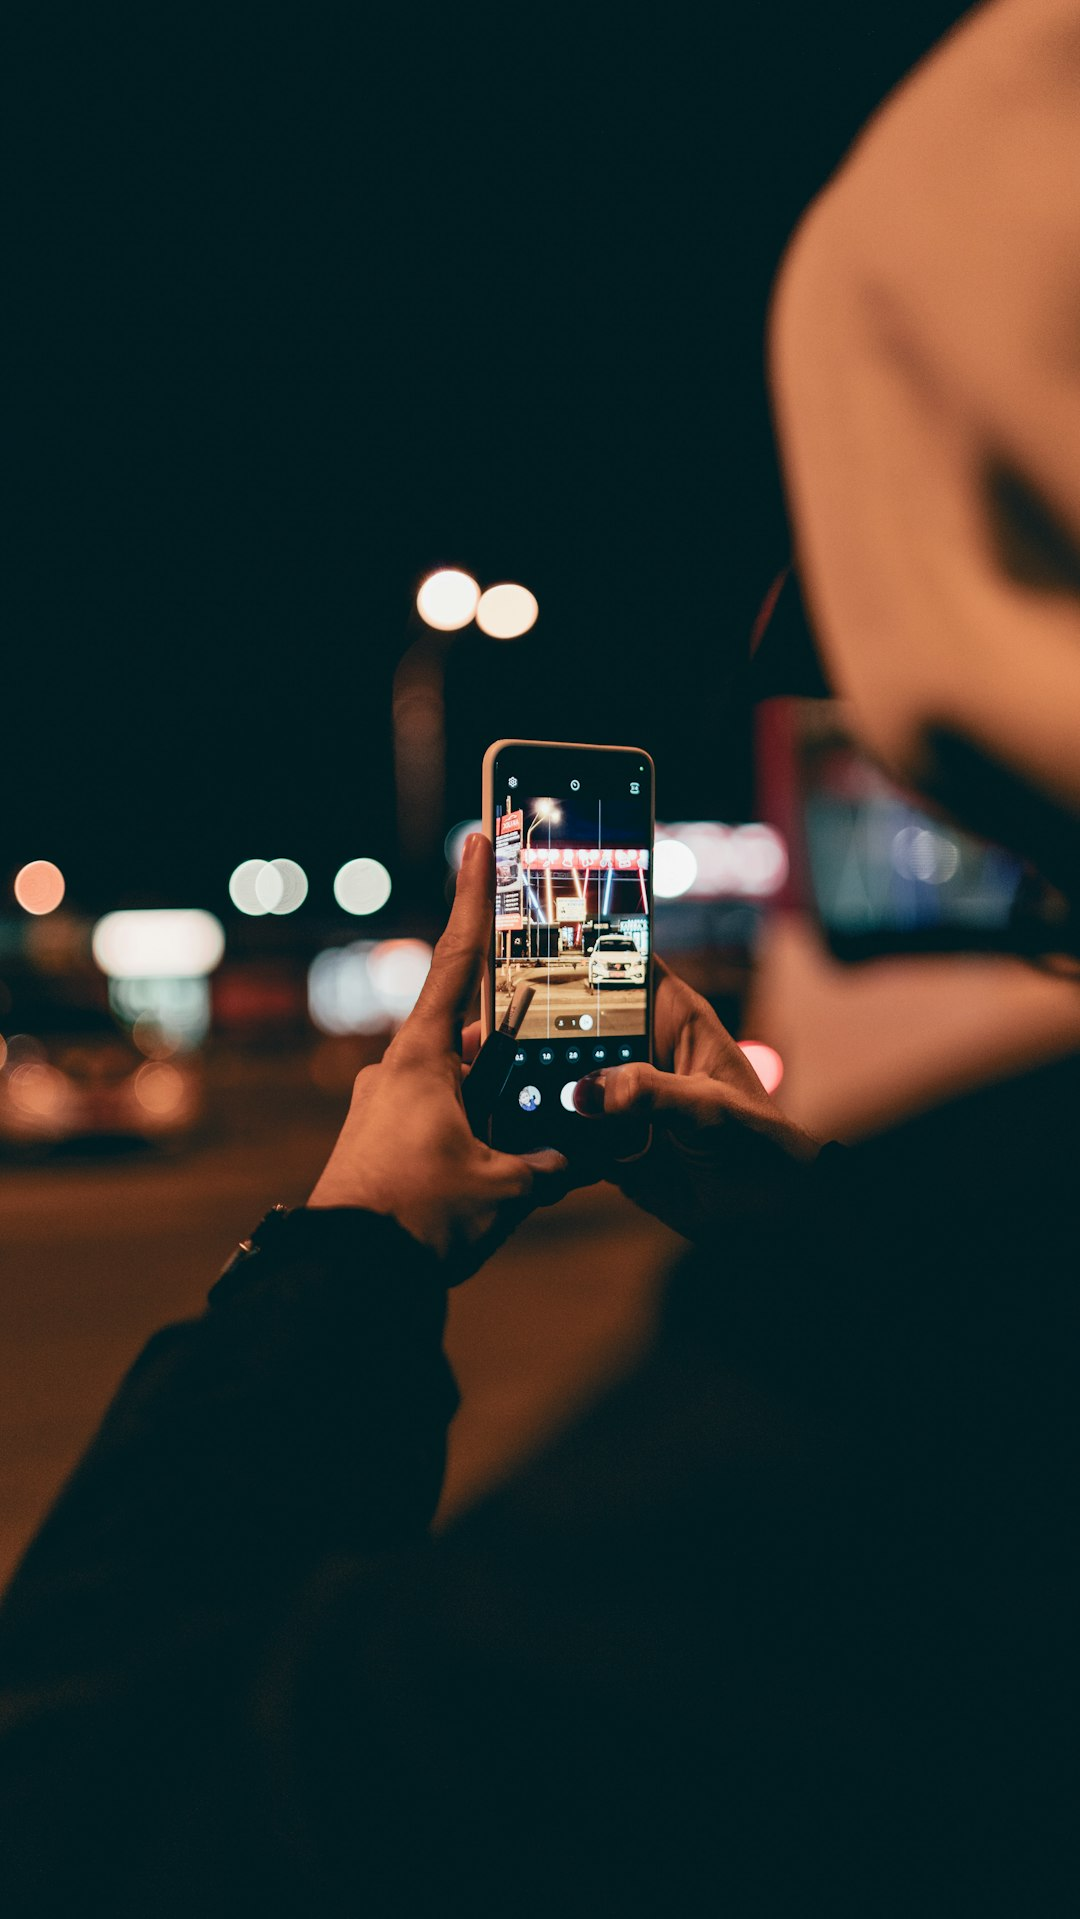phone: (481, 735, 654, 1164)
